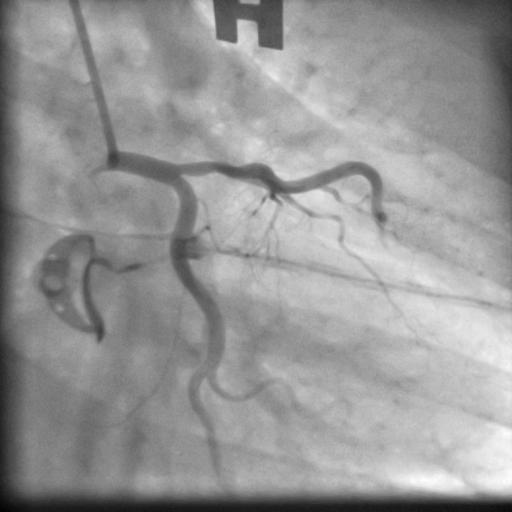Stenosis: (193, 157, 243, 179)
